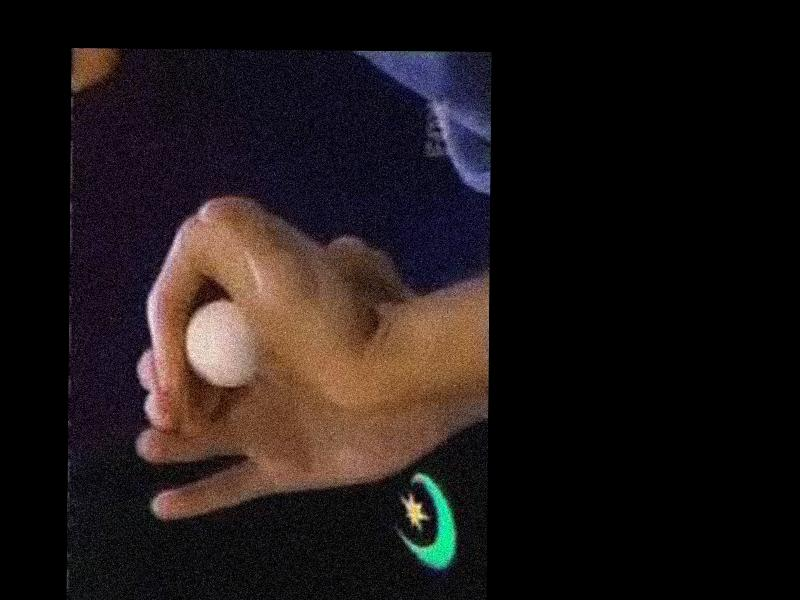Eggs: (182, 297, 252, 388)
